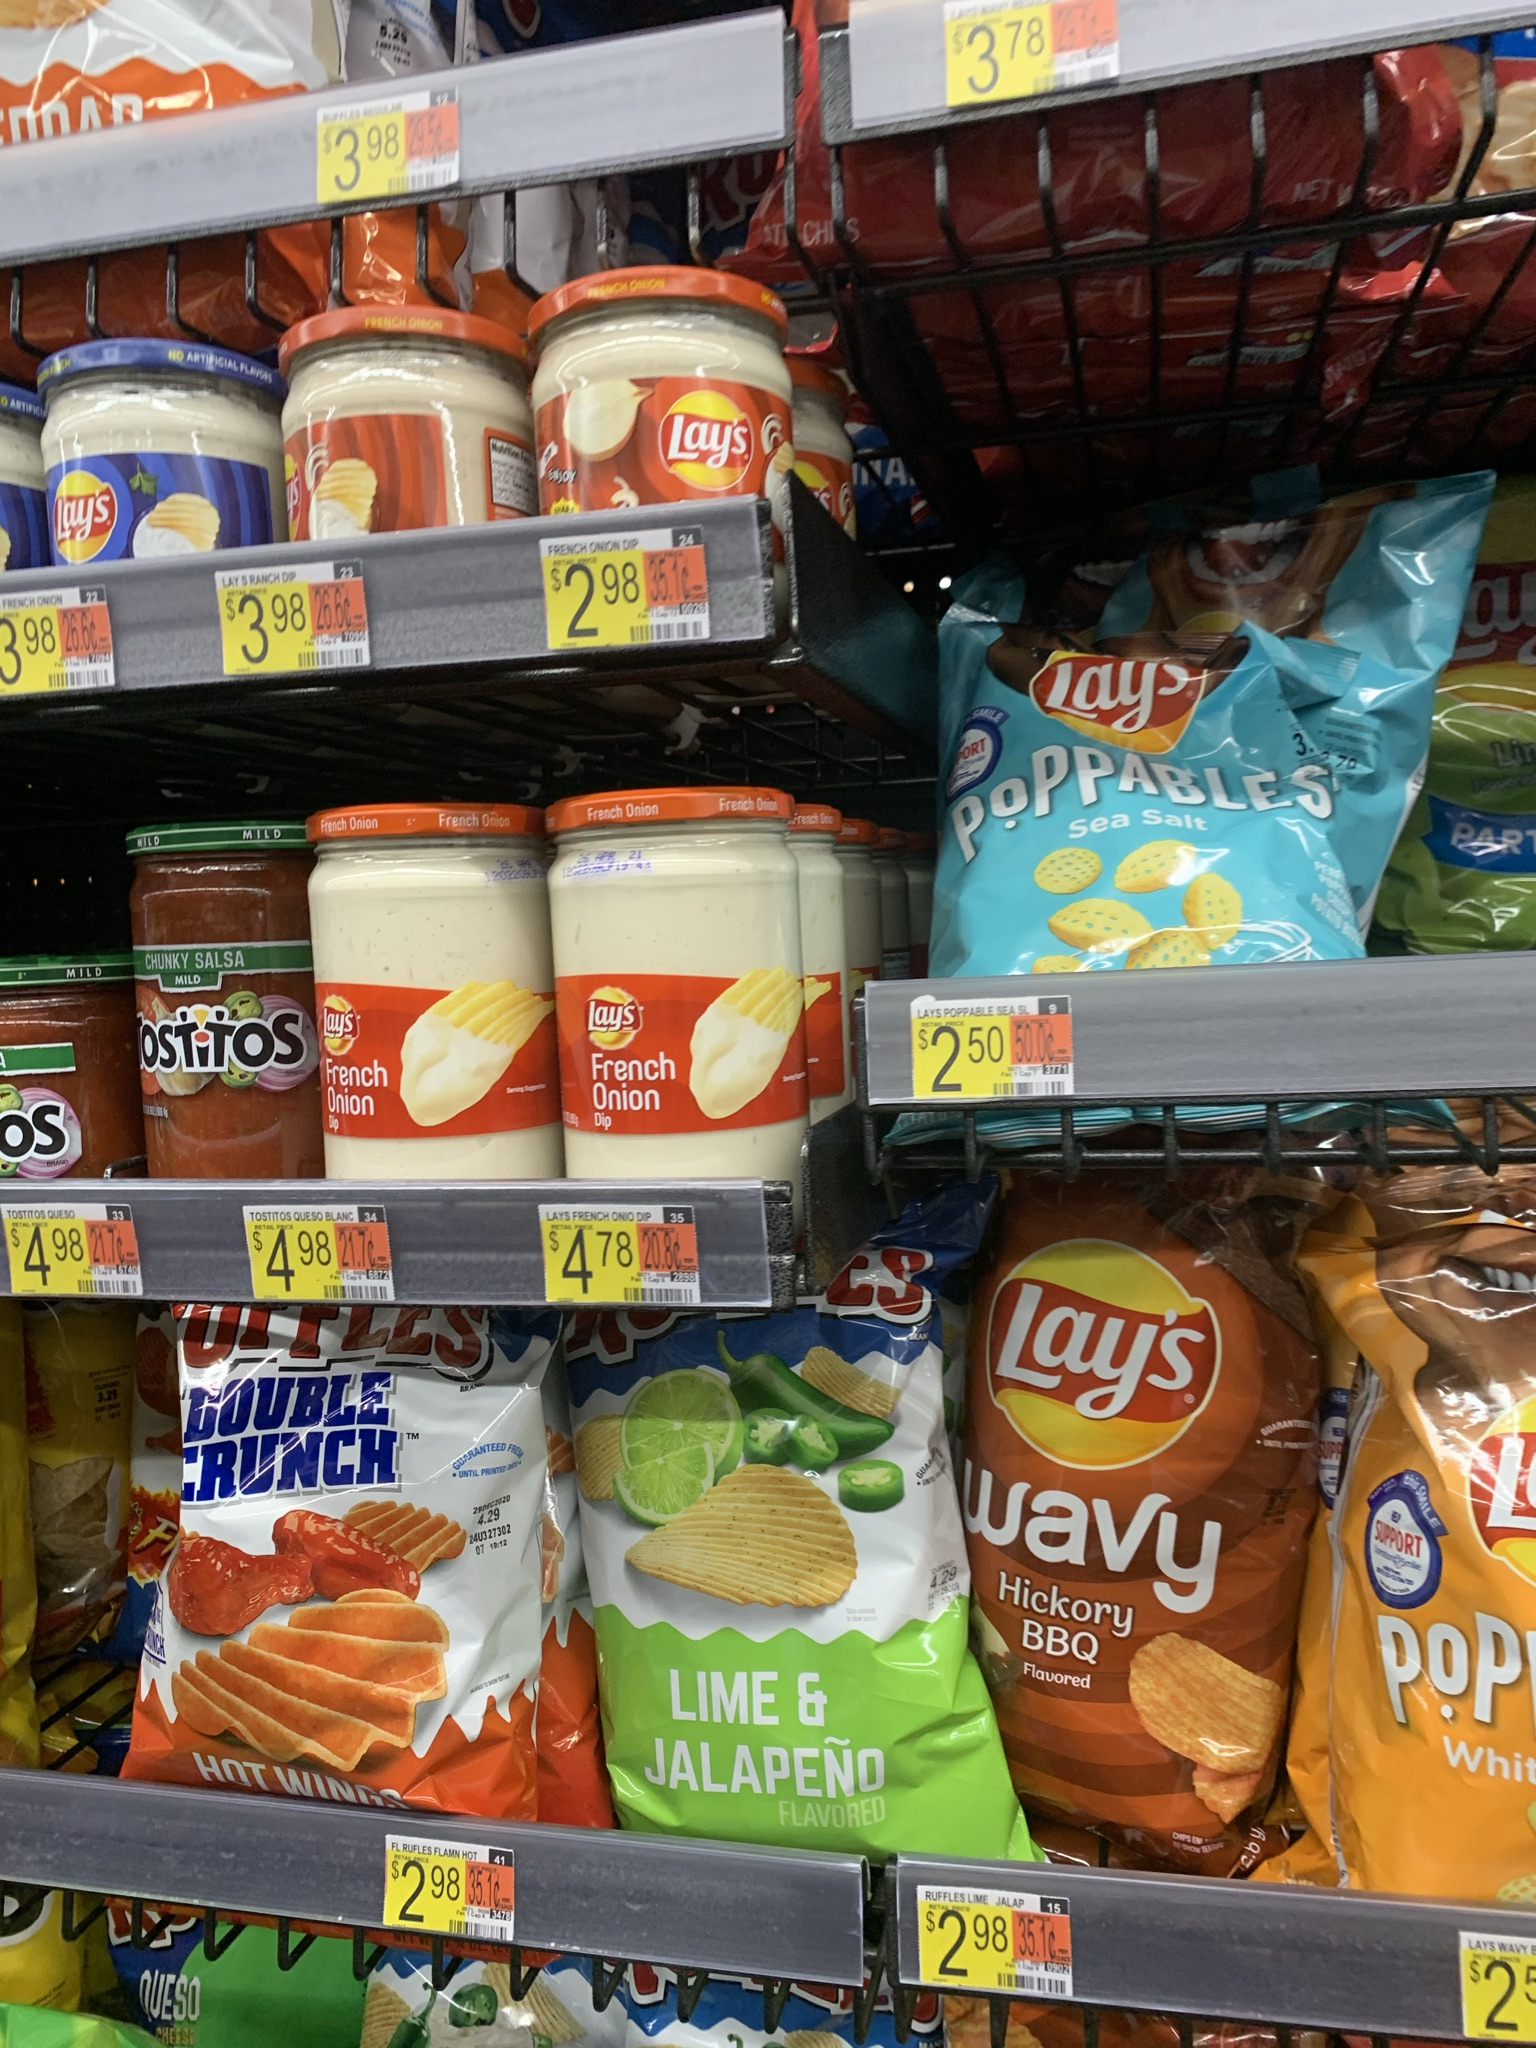Chips: (925, 519, 1433, 955), (570, 1316, 960, 1842), (153, 1292, 537, 1821), (981, 1176, 1273, 1843)
